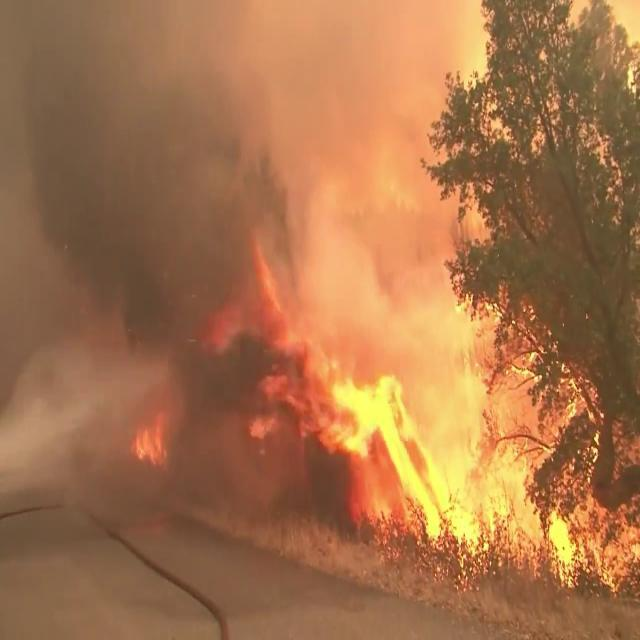Fire: (250, 264, 632, 583), (126, 405, 172, 472)
Smoke: (0, 2, 330, 492)
